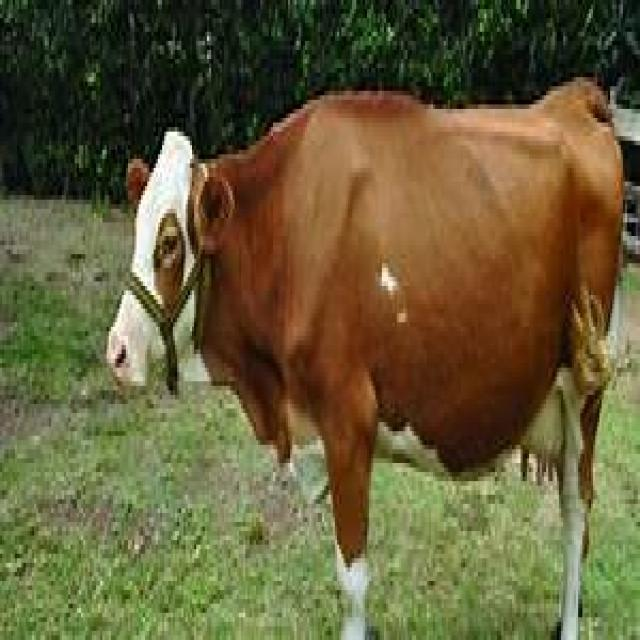cow: (108, 80, 621, 637)
